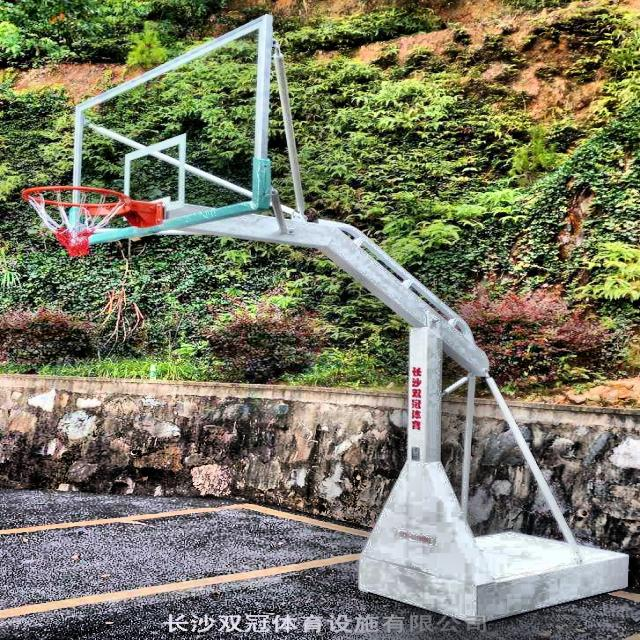rim: (19, 187, 125, 257)
